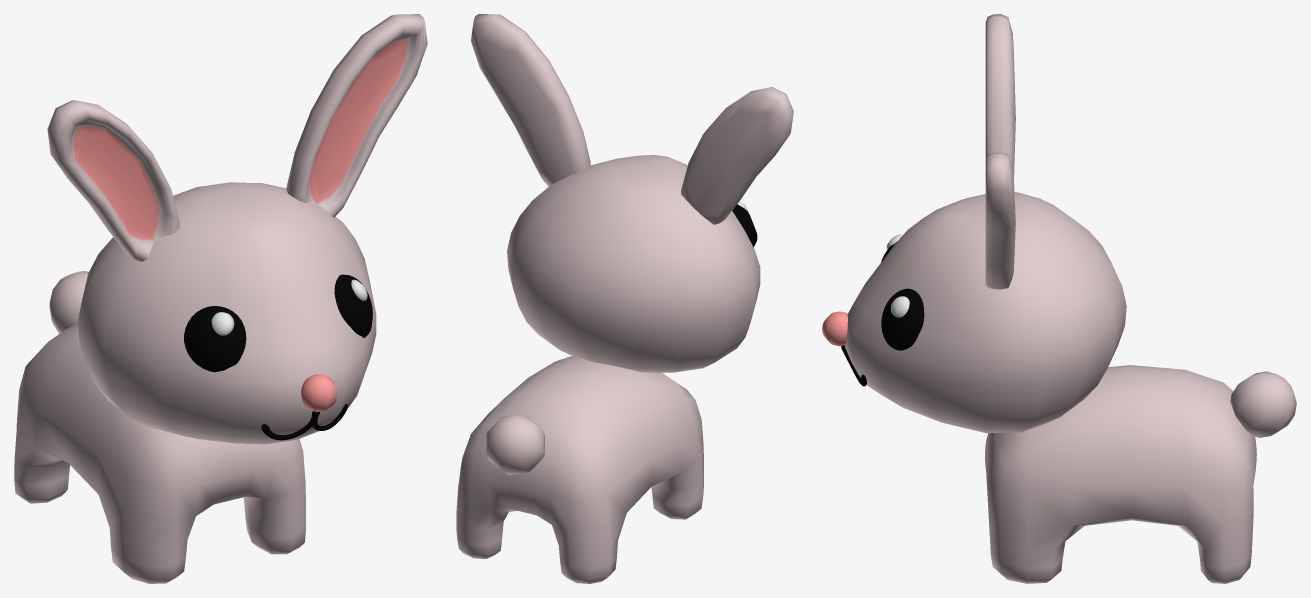
Rendered from rabbit.fbx.
3 views of the same model, side by side, from view 1: azimuth 30°, elevation 25°; view 2: azimuth 150°, elevation 25°; view 3: azimuth 270°, elevation 25° (orthographic). The views are drawn at different scales.
Visible parts, largest first — view 1: rabbit_head, rabbit_body; view 2: rabbit_head, rabbit_body; view 3: rabbit_head, rabbit_body.
Boxes of the visible parts, box(x1,y1,x2,y2) form: rabbit_head: box(47, 14, 427, 444); rabbit_body: box(14, 271, 305, 583); rabbit_head: box(471, 14, 793, 372); rabbit_body: box(456, 355, 703, 583); rabbit_head: box(822, 14, 1126, 432); rabbit_body: box(985, 365, 1296, 583).
Size of the model in its own units: 77.48 by 102 by 93.47.
